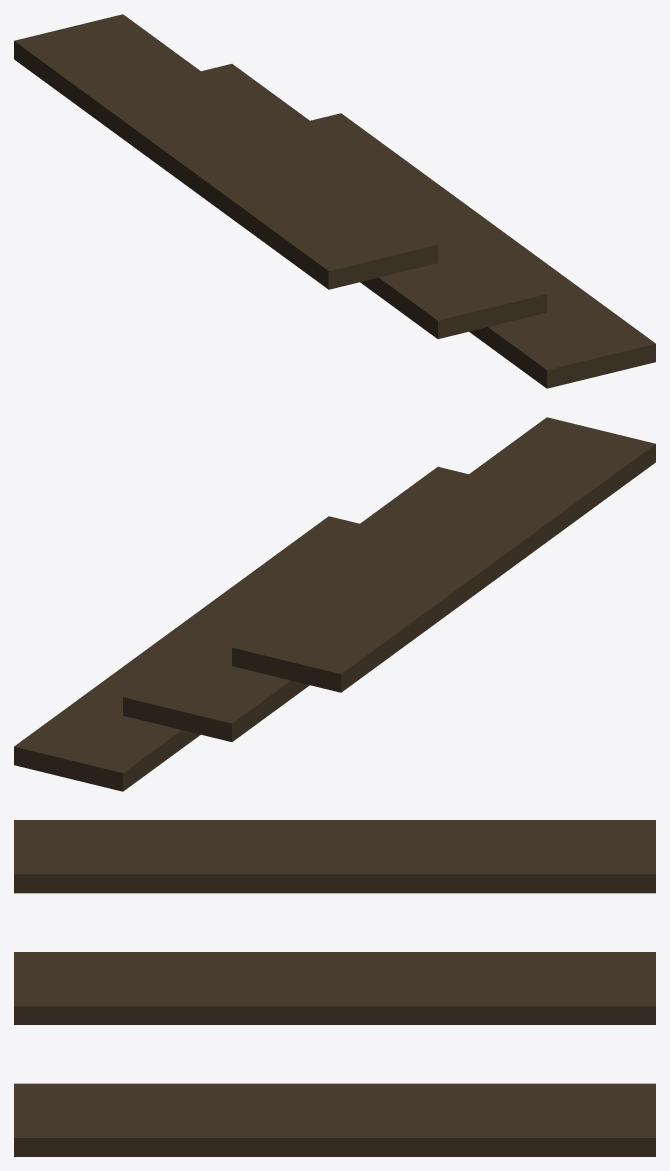
Rendered from clay-steps-far.glb.
3 views of the same model, one above another, from view 1: azimuth 30°, elevation 25°; view 2: azimuth 150°, elevation 25°; view 3: azimuth 270°, elevation 25° (orthographic).
Visible parts, largest first — view 1: clay-steps-far; view 2: clay-steps-far; view 3: clay-steps-far.
Boxes of the visible parts, box(x1,y1,x2,y2) form: clay-steps-far: box(14, 14, 655, 388); clay-steps-far: box(14, 417, 655, 791); clay-steps-far: box(14, 820, 655, 1156).
Bounding box in the file's own units: 2.4 × 1.2 × 4.
